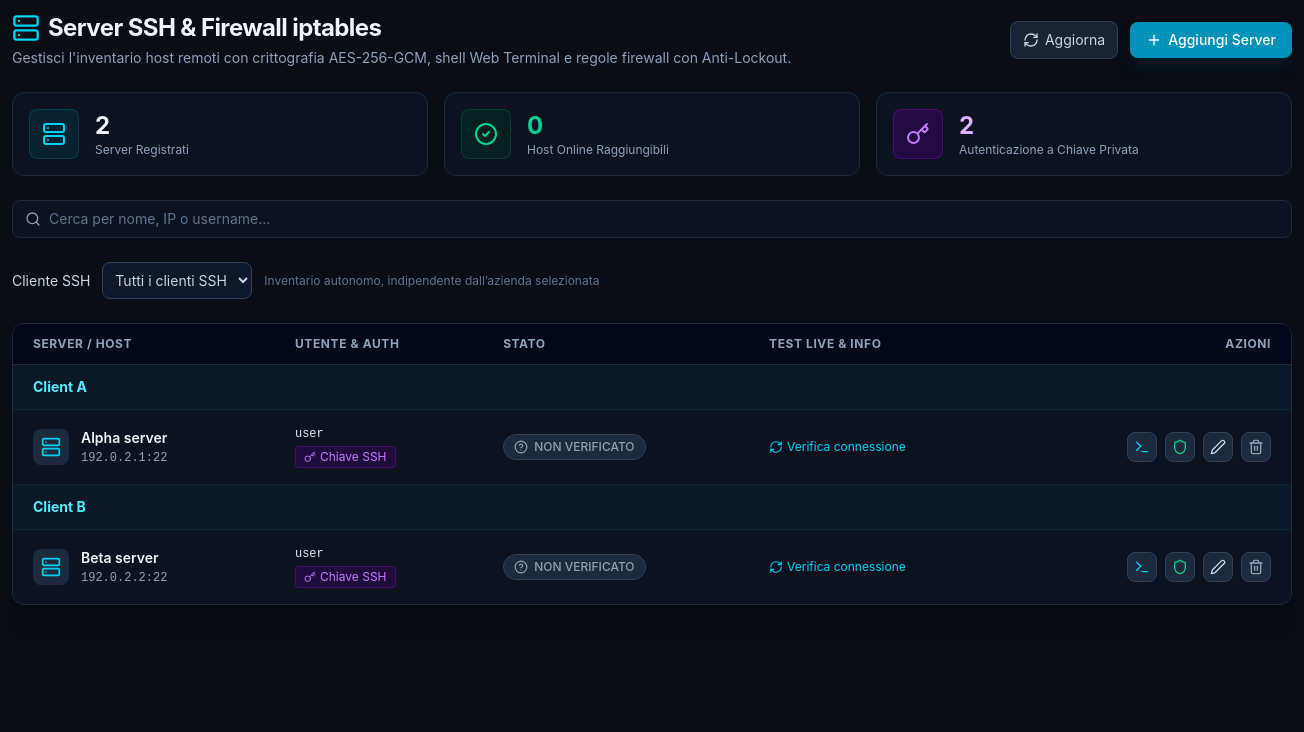
Scenario: Independent SSH customer inventory › groups and filters clients without CompanyContext
Expected: the text "Alpha server" is shown, [81,428,167,448]
Select "Client B" in the dropdown named "Filtro cliente SSH" at [177, 280], box [102,262,252,299]
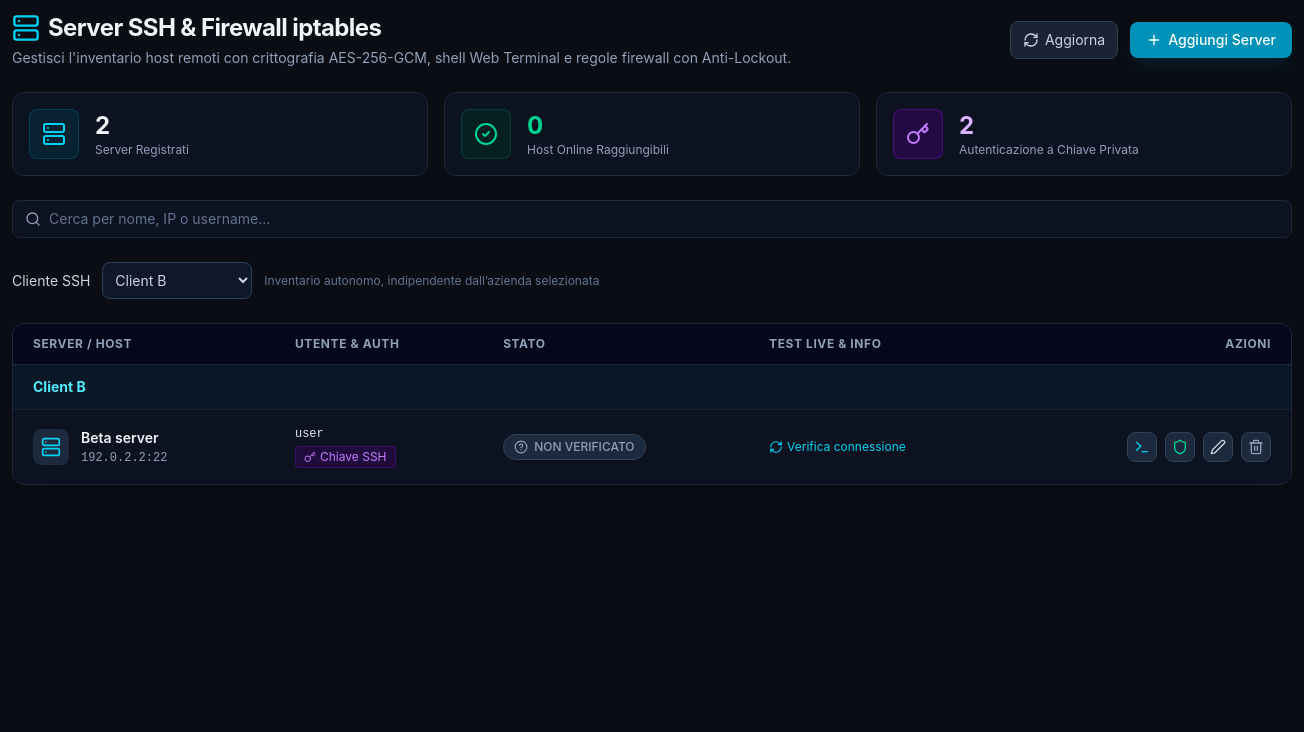
Expected: the text "Beta server" is shown, [81,428,159,448]
Result: the text "Alpha server" is gone
